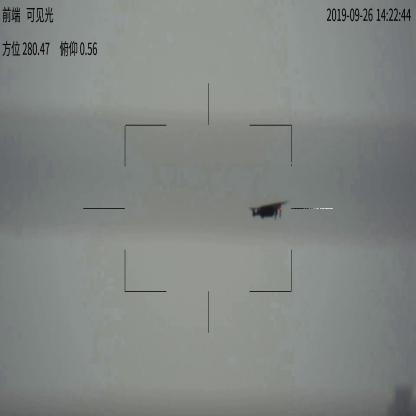uav: (246, 198, 290, 225)
